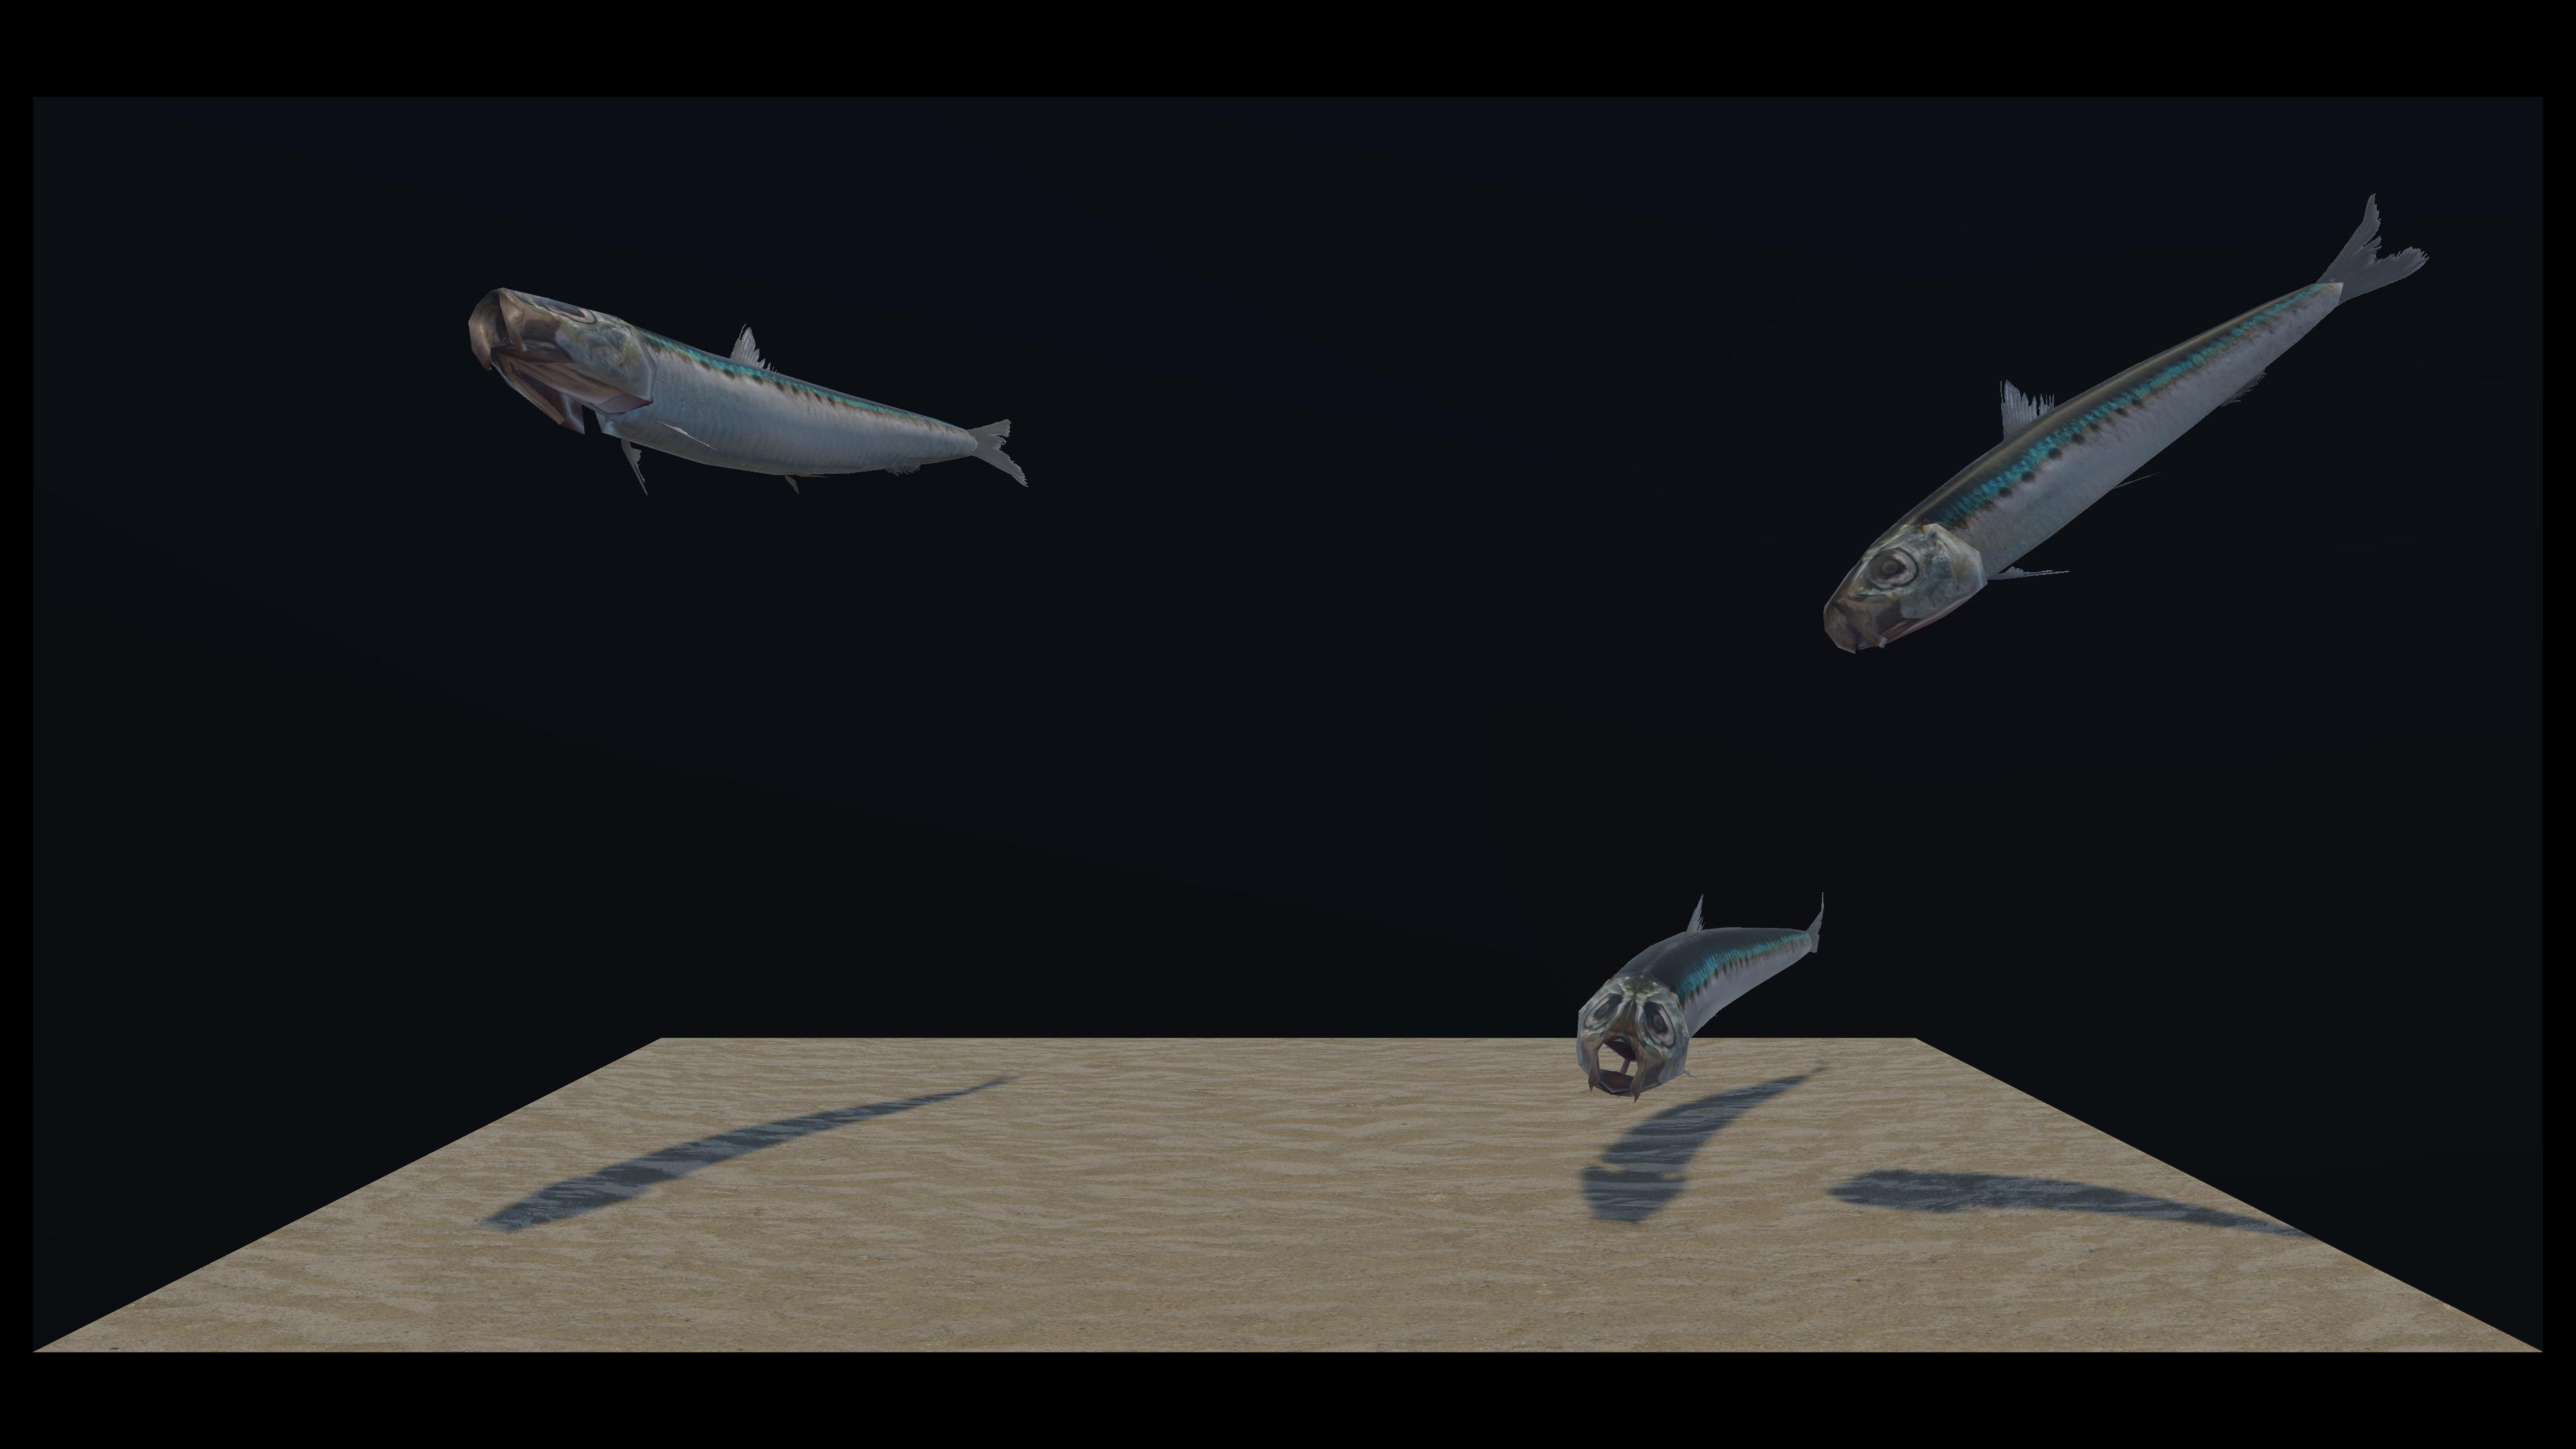Sardine_Front: (753, 380, 1823, 1091), (813, 190, 2429, 600), (496, 292, 1025, 506)
